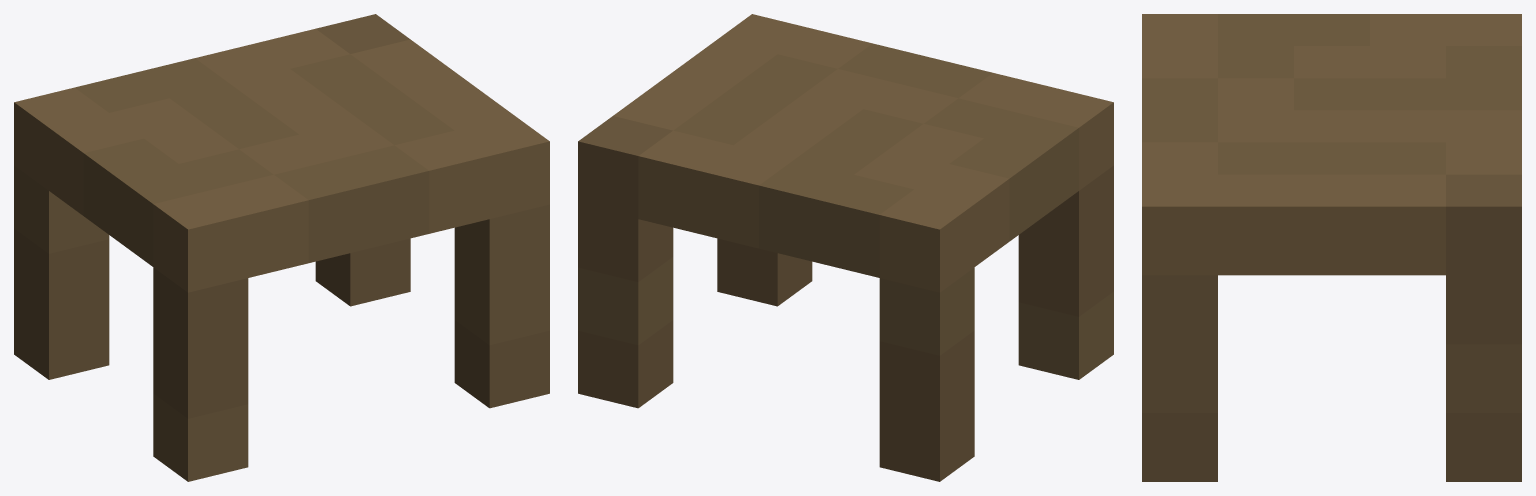
Rendered from Decor-80.obj.
3 views of the same model, side by side, from view 1: azimuth 30°, elevation 25°; view 2: azimuth 150°, elevation 25°; view 3: azimuth 270°, elevation 25° (orthographic). The views are drawn at different scales.
Bounding box in the file's own units: 0.6 × 0.4 × 0.5.
Materials: 1 (1 with a texture image).
